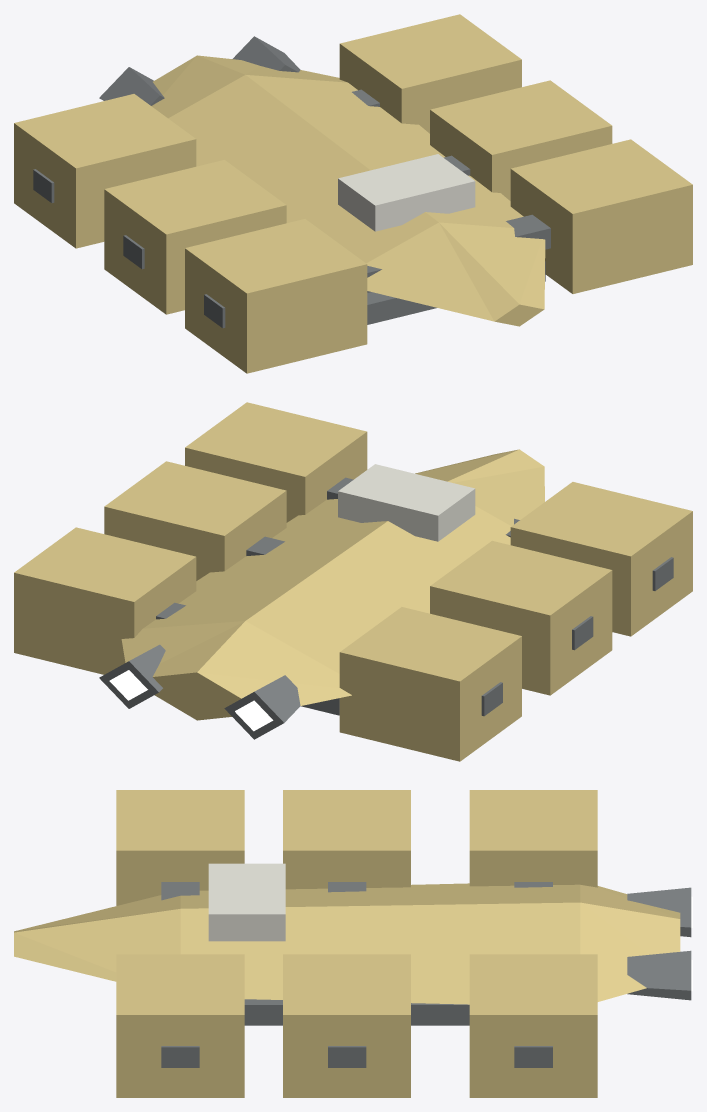
3 views of the same model, one above another, from view 1: azimuth 30°, elevation 25°; view 2: azimuth 150°, elevation 25°; view 3: azimuth 270°, elevation 25° (orthographic). The views are drawn at different scales.
Bounding box in the file's own units: 8.57 × 1.69 × 10.81.
